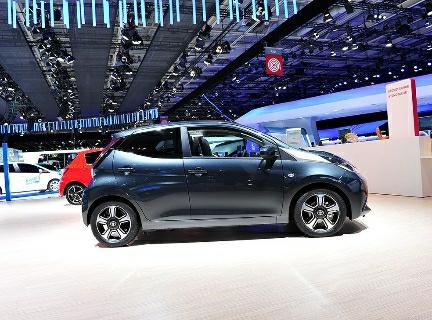car: (80, 121, 374, 252)
